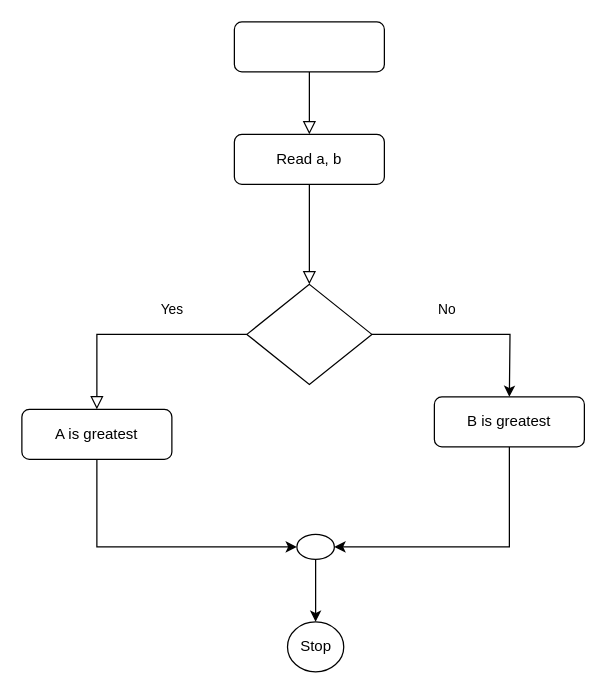
This 606x694 diagram has some shape labels left out. Here are the shapes that lost their labels. From the top down, the box of each, then its label:
(233, 21, 384, 72): Start
(246, 283, 372, 384): if a>b
